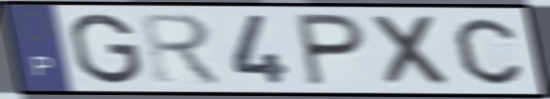4: (228, 12, 298, 87)
C: (451, 16, 526, 87)
G: (66, 11, 146, 86)
P: (293, 11, 369, 89)
R: (137, 11, 228, 88)
X: (368, 12, 455, 89)
